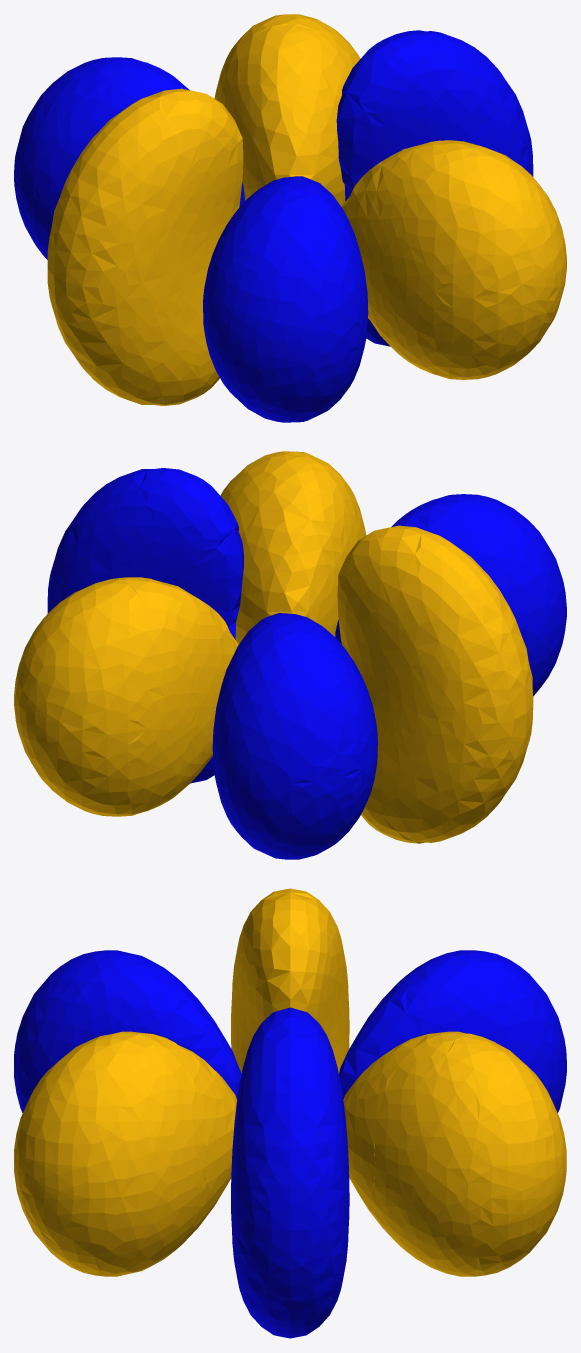
3 renders of one model, top to bottom at view 1: azimuth 30°, elevation 25°; view 2: azimuth 150°, elevation 25°; view 3: azimuth 270°, elevation 25°, orthographic.
Size of the model in its own units: 24.14 by 15.07 by 24.04.
